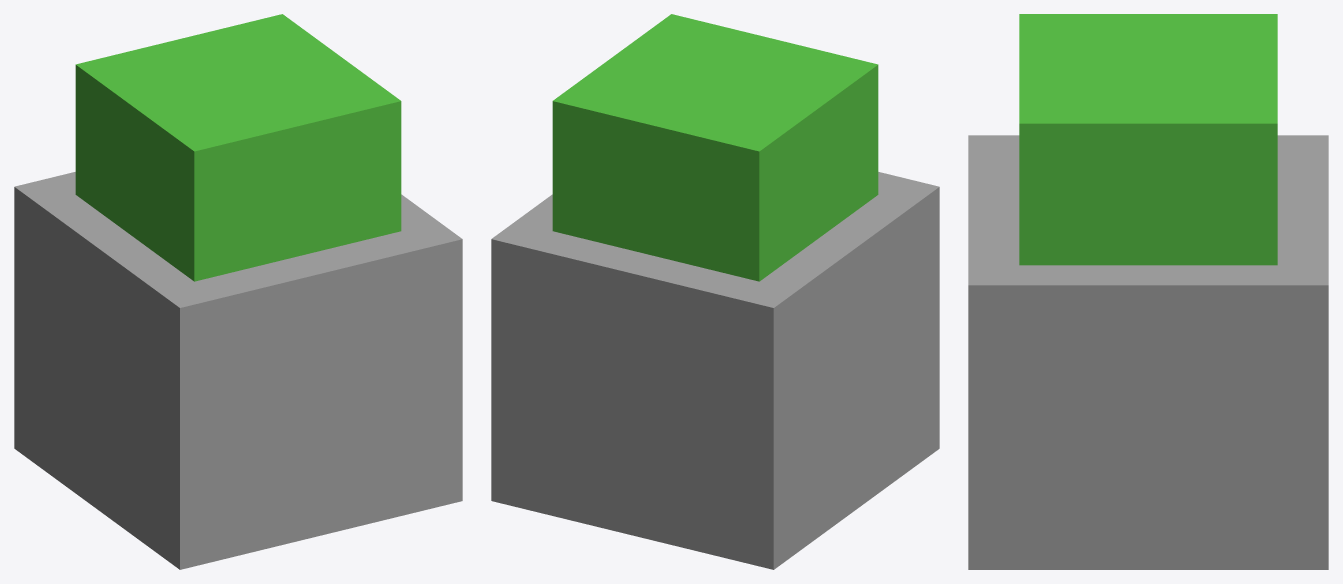
File: BatteryTest.fbx
3 renders of one model, left to right at view 1: azimuth 30°, elevation 25°; view 2: azimuth 150°, elevation 25°; view 3: azimuth 270°, elevation 25°, orthographic. The views are drawn at different scales.
Parts seen in each view (by area): view 1: pCube1; view 2: pCube1; view 3: pCube1.
Boxes of the visible parts, <box> form: pCube1: <box>14,14,462,569</box>; pCube1: <box>491,14,939,569</box>; pCube1: <box>968,14,1328,569</box>.
Size of the model in its own units: 3.43 by 4.54 by 3.48.
